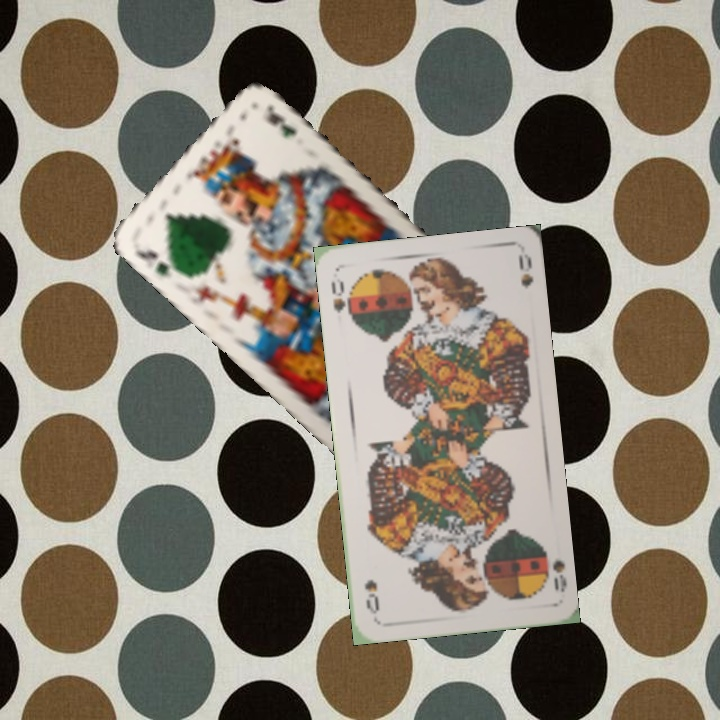GK: (129, 239, 184, 280)
SO: (537, 541, 569, 595), (327, 274, 355, 325)
